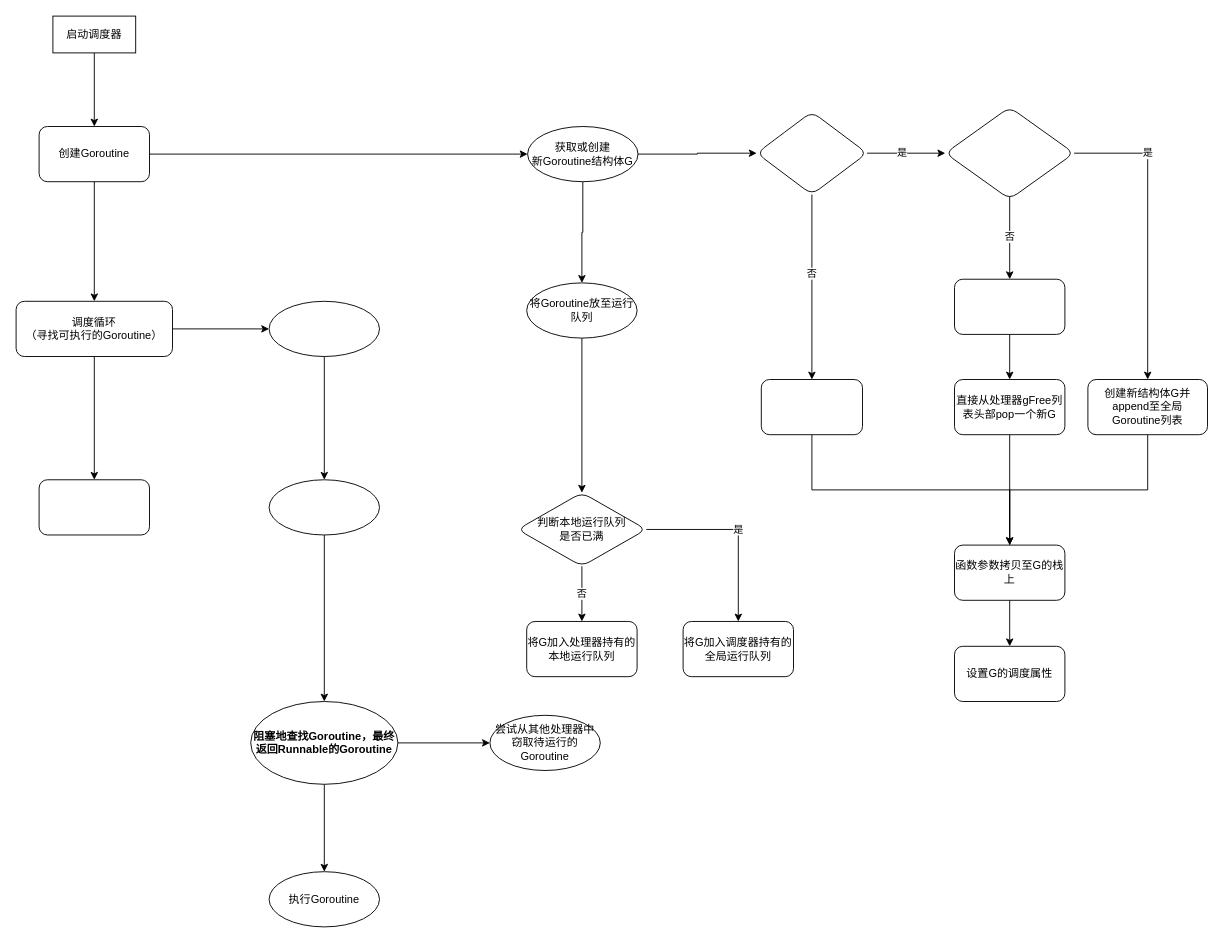
Image size: 1224x943. Some labels were removed from this diagram. The shapes that lost their labels are listed below. From the top down, each one's box as (x1, y1, x2, y2) in pixels, then its label:
(756, 111, 867, 195): P处理器 的gFree是否为空
(944, 106, 1074, 199): 调度器gFree列表 是否为空
(954, 278, 1065, 334): 将调度器持有的空闲Goroutine转移至当前处理器的gFree列表
(268, 300, 380, 356): 从本地运行队列查找待执行的Goroutine
(760, 379, 862, 435): 直接从处理器的gFree获取G
(38, 479, 150, 535): 触发调度
(268, 479, 380, 535): 从全局运行队列查找待执行的Goroutine
